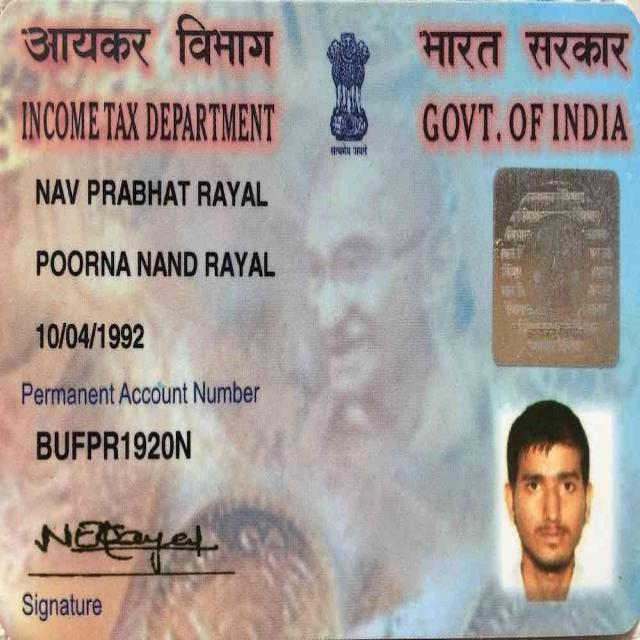pan_card: (1, 1, 634, 633)
